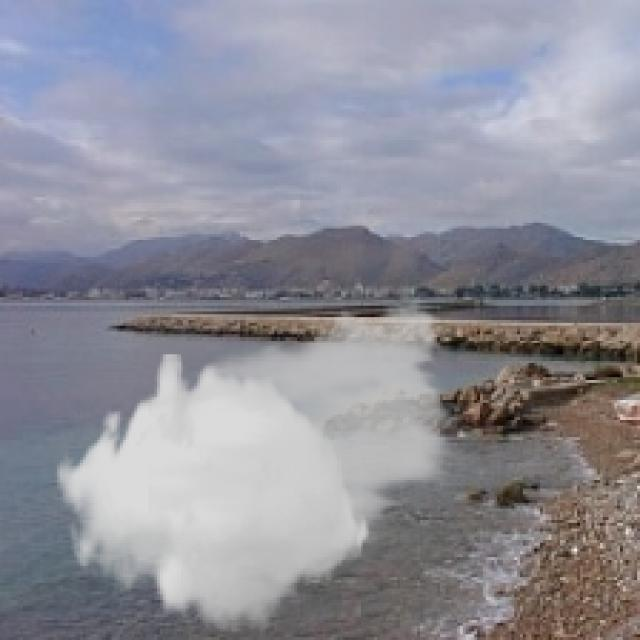smoke: (54, 288, 466, 632)
